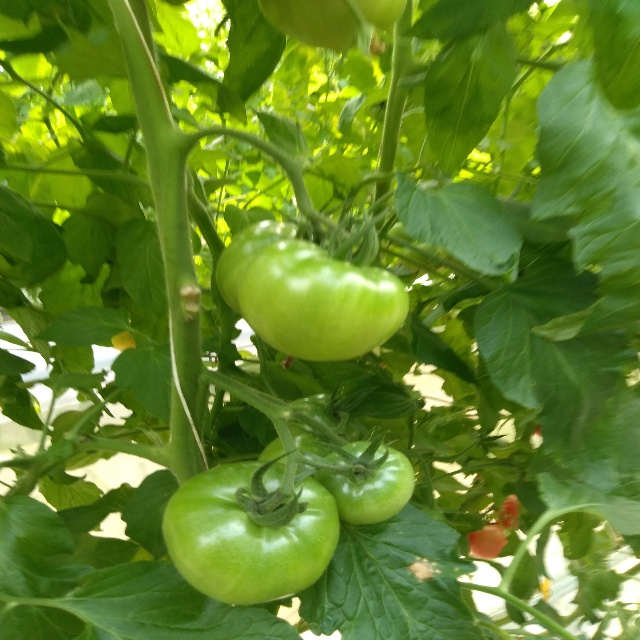b_green: (161, 459, 341, 605), (237, 240, 410, 362), (214, 221, 307, 319), (319, 441, 416, 525)
